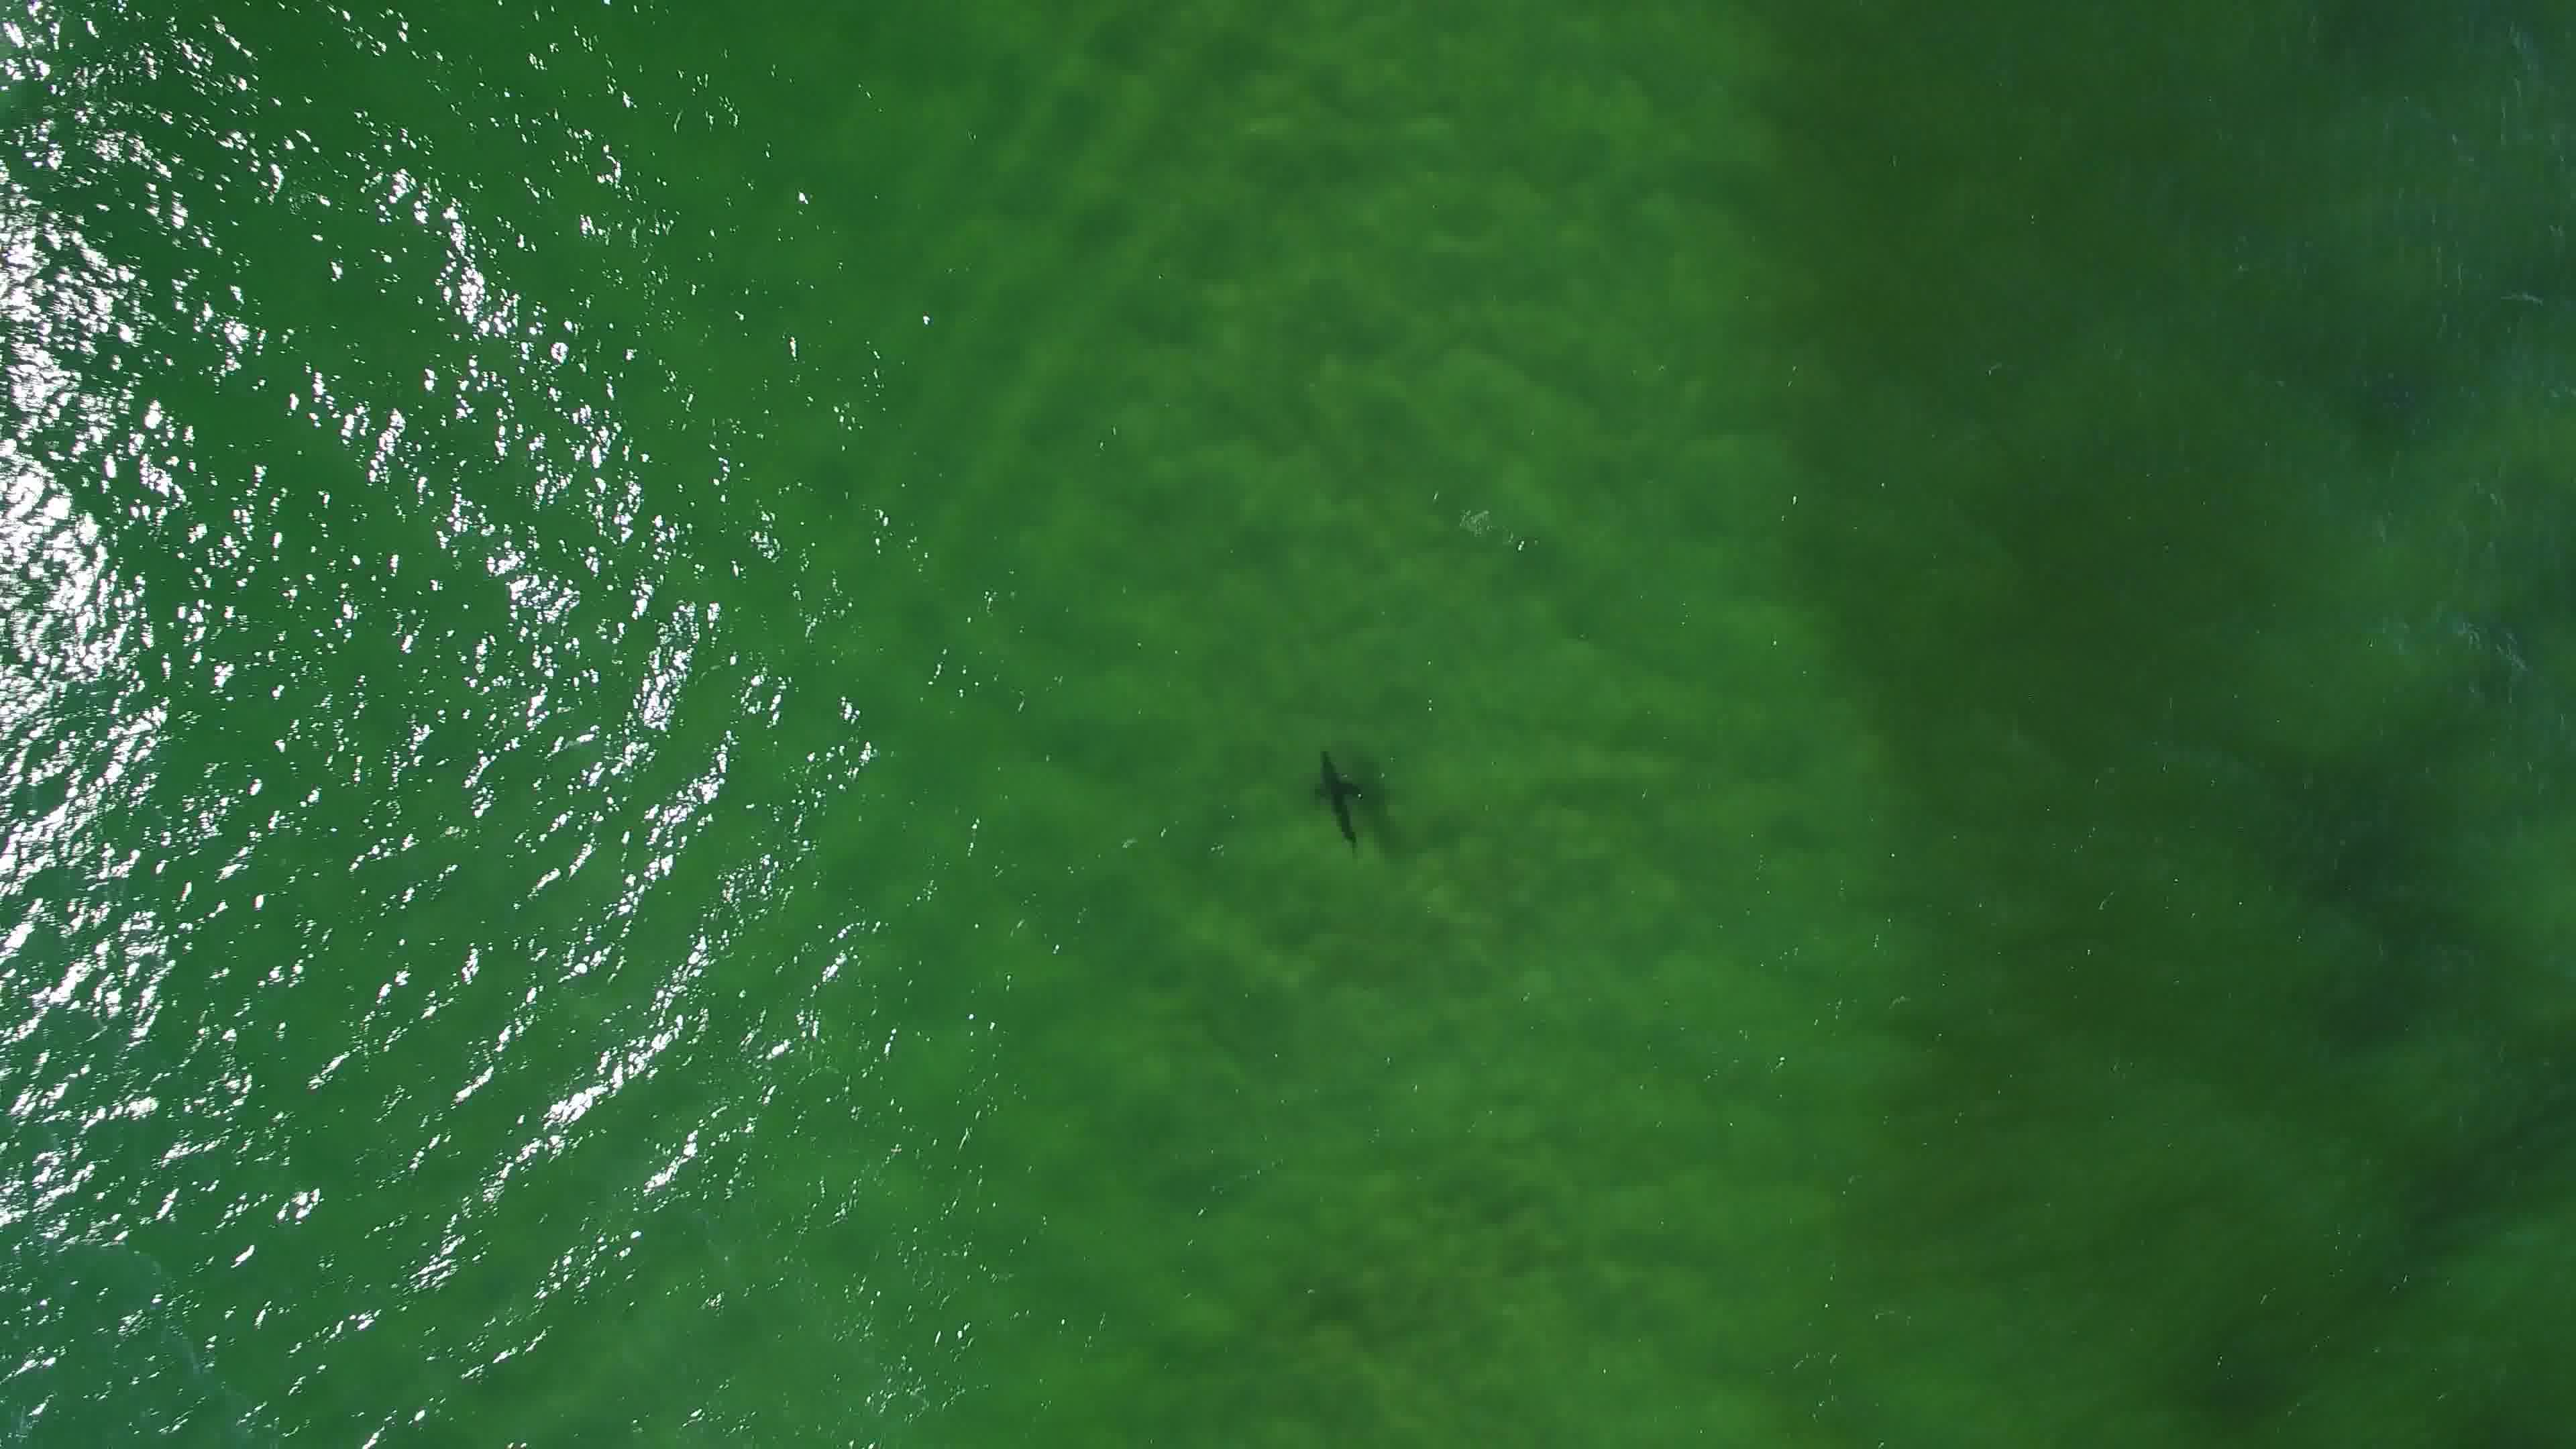shark: (1295, 743, 1373, 860)
